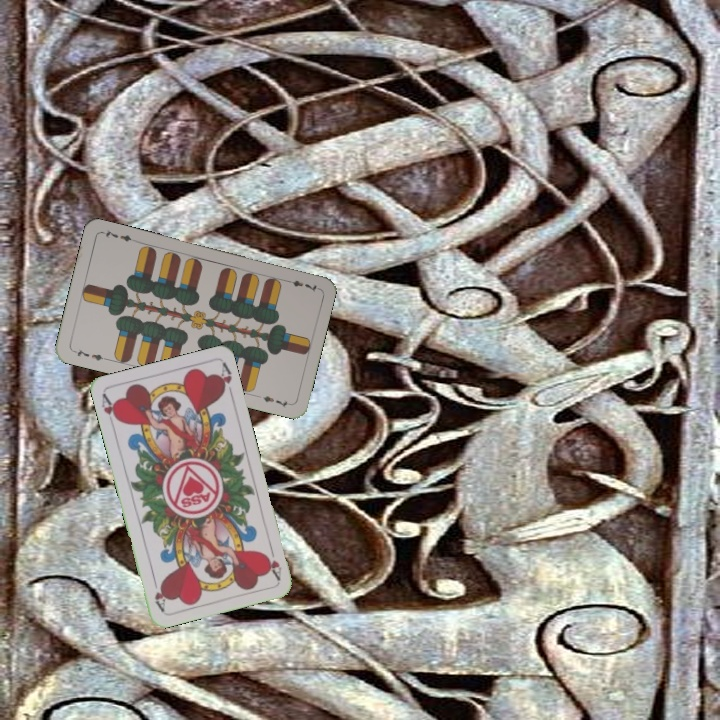E7: (281, 275, 320, 294), (69, 345, 109, 363)
HA: (261, 542, 284, 582), (97, 390, 122, 425)
